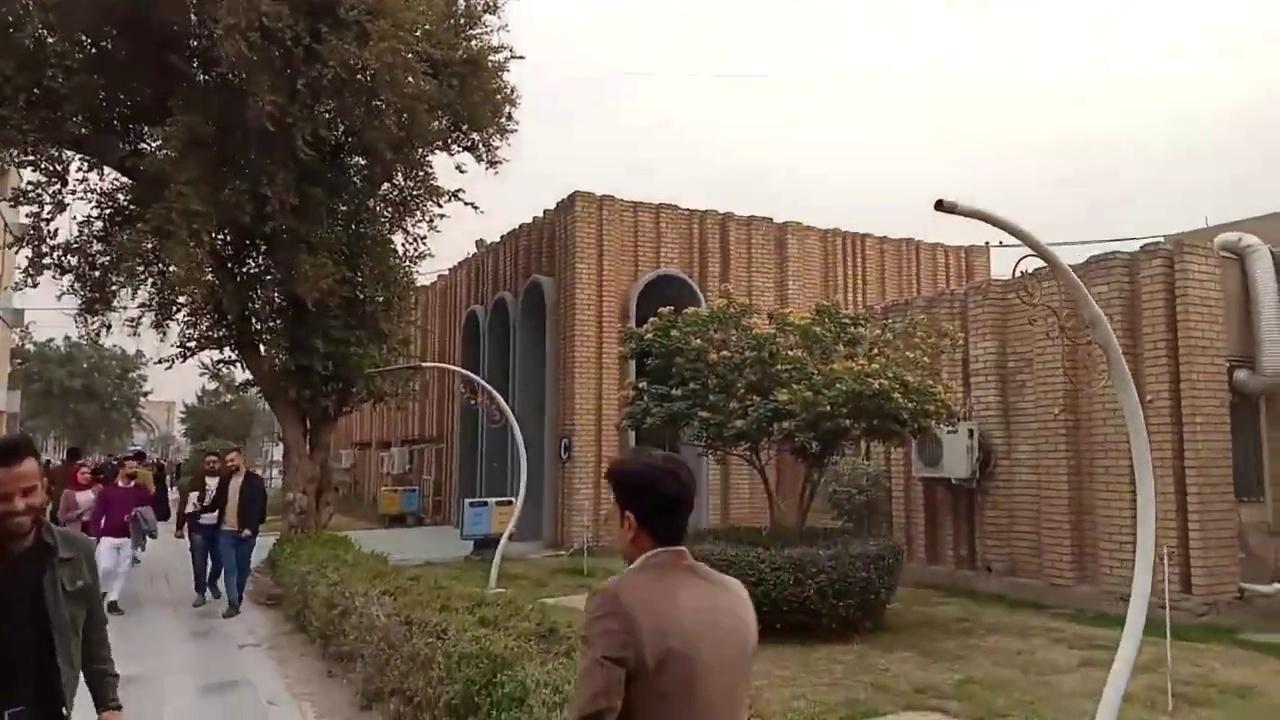person: (567, 450, 759, 719), (0, 431, 123, 719), (197, 447, 267, 618), (87, 459, 158, 615), (174, 451, 225, 608)
tree: (0, 0, 524, 547), (614, 282, 963, 547), (688, 532, 904, 636), (10, 332, 157, 463), (176, 384, 254, 452)
